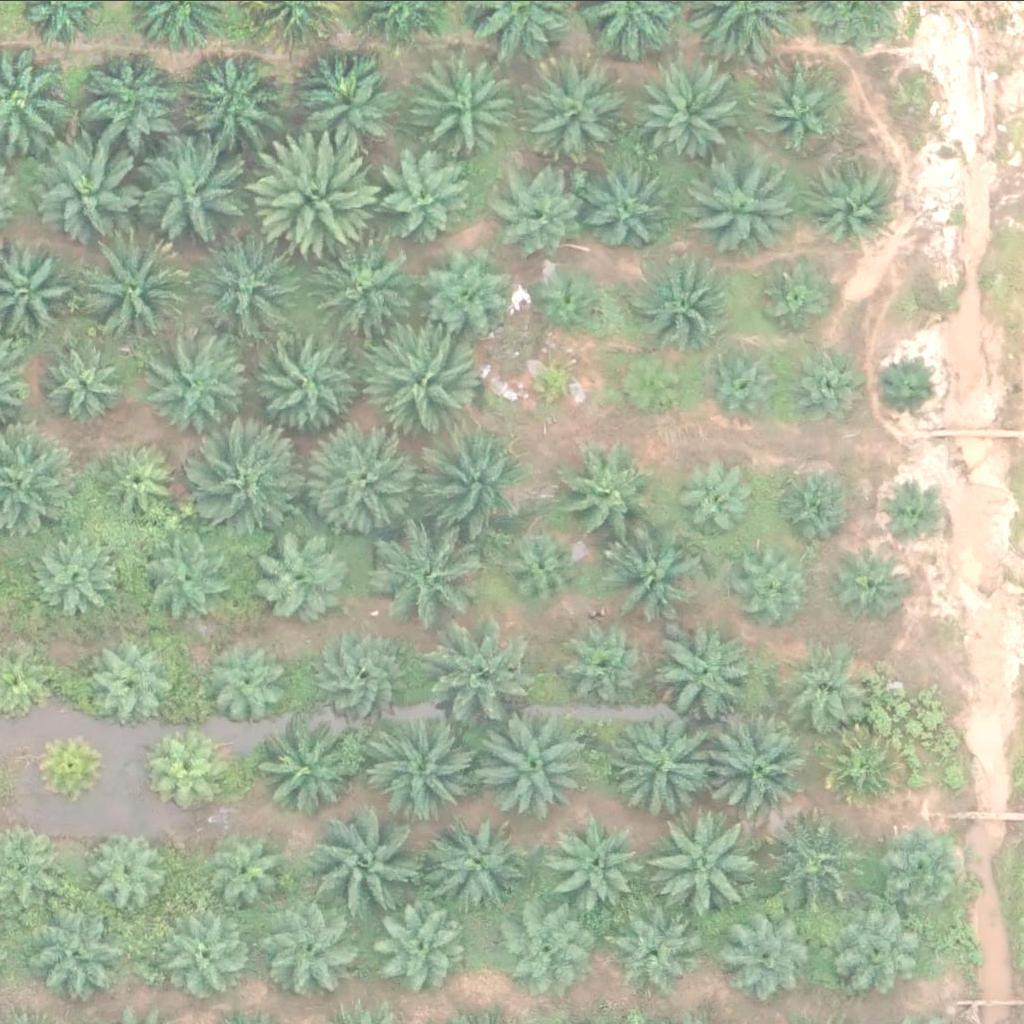Kelapa_Sawit: (253, 127, 379, 252), (131, 137, 245, 250), (474, 713, 588, 826), (79, 235, 192, 348), (191, 231, 304, 344), (246, 324, 359, 437), (307, 427, 420, 540), (701, 708, 814, 821), (605, 716, 718, 829), (37, 130, 150, 243), (409, 428, 523, 540), (370, 711, 484, 823), (647, 809, 761, 921), (147, 332, 260, 444), (364, 327, 477, 439), (198, 430, 311, 542), (415, 617, 528, 729), (309, 813, 422, 925), (183, 43, 284, 143), (420, 57, 521, 157), (532, 62, 633, 162), (640, 66, 741, 166), (312, 240, 413, 340), (413, 238, 514, 338), (561, 446, 662, 546), (610, 532, 711, 632), (382, 532, 483, 632), (658, 622, 759, 722), (258, 719, 359, 819), (426, 816, 527, 916), (763, 814, 864, 914), (263, 895, 364, 995), (27, 899, 128, 999), (627, 247, 728, 347), (90, 48, 190, 148), (290, 58, 390, 158), (692, 155, 792, 255), (248, 525, 348, 625), (316, 627, 416, 727), (500, 170, 588, 258), (783, 345, 871, 433), (821, 726, 909, 814), (97, 437, 185, 525), (499, 523, 587, 611), (90, 642, 178, 730), (559, 816, 647, 904), (727, 914, 815, 1002), (162, 916, 250, 1004), (42, 337, 130, 425), (587, 168, 676, 255), (147, 538, 236, 625), (834, 904, 923, 991), (758, 61, 846, 148), (807, 159, 895, 246), (380, 153, 468, 240), (702, 336, 790, 423), (206, 641, 294, 728), (568, 619, 656, 706), (788, 642, 876, 729), (86, 825, 174, 912), (210, 828, 298, 915), (880, 826, 968, 913), (605, 914, 693, 1001), (493, 905, 581, 992), (378, 902, 466, 989), (30, 531, 118, 618), (685, 465, 761, 540), (773, 463, 849, 538), (533, 264, 609, 339), (620, 345, 696, 420), (156, 731, 232, 806), (29, 726, 105, 801), (755, 257, 830, 332), (740, 545, 815, 620), (840, 547, 915, 622), (881, 486, 944, 549), (877, 354, 940, 416), (521, 351, 584, 413)
